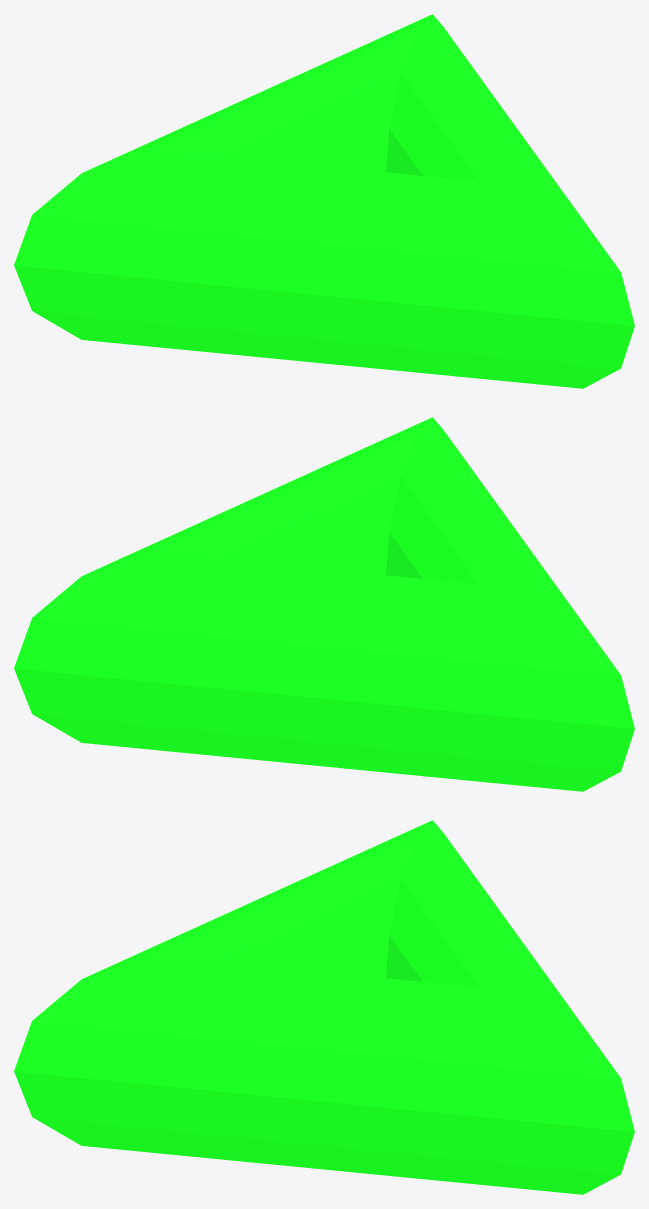
File: Bad_Donut_V0.glb
3 renders of one model, top to bottom at view 1: azimuth 30°, elevation 25°; view 2: azimuth 150°, elevation 25°; view 3: azimuth 270°, elevation 25°, orthographic.
Parts seen in each view (by area): view 1: Bad-Donut-col; view 2: Bad-Donut-col; view 3: Bad-Donut-col.
Part boxes in pixels (x1,y1,x2,y2): Bad-Donut-col: [14, 14, 634, 388]; Bad-Donut-col: [14, 417, 634, 791]; Bad-Donut-col: [14, 820, 634, 1194].
Bounding box in the file's own units: 0.646 × 0.225 × 0.6582.
